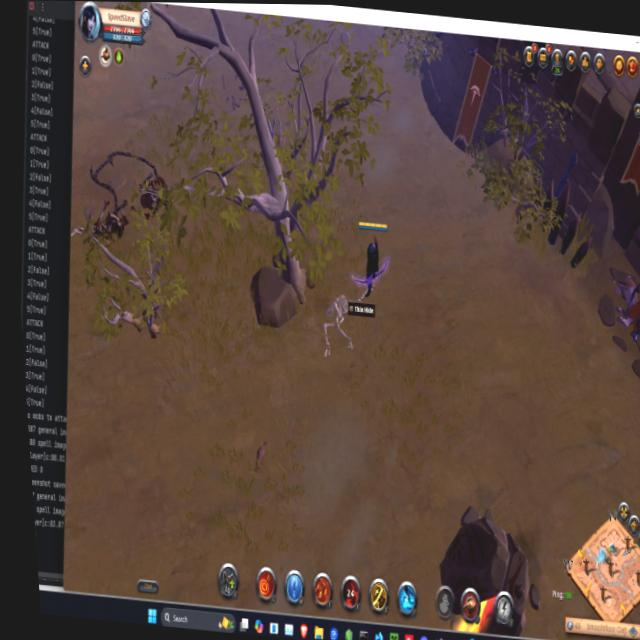mob: (603, 263, 640, 343)
red: (351, 216, 395, 294)
